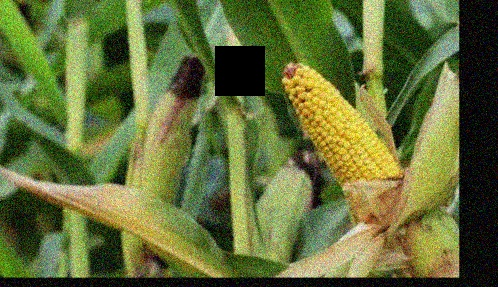corn: (276, 62, 419, 230)
corn_plant: (107, 47, 216, 272)
